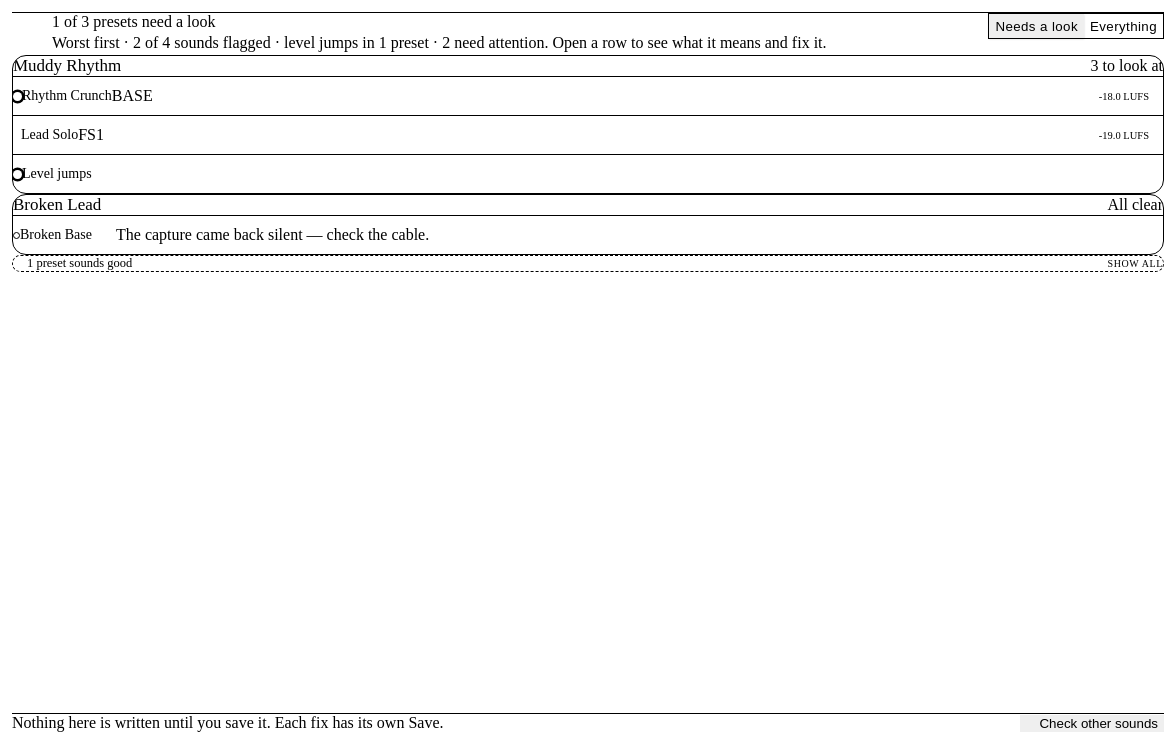
Test: DoctorResults — summary + cards › shows per-card status badges (count + all-clear)
The width and height of the screenshot is (1176, 732).
expect the text "3 to look at" is shown: met, box [1079, 57, 1163, 75]
expect the text "All clear" is shown once: met, box [1108, 196, 1163, 213]
What coordinates should you click on to do the following:
click the radio button labelled "Everything"
I would click on:
 (1124, 26)
Its box is [1084, 14, 1163, 38].
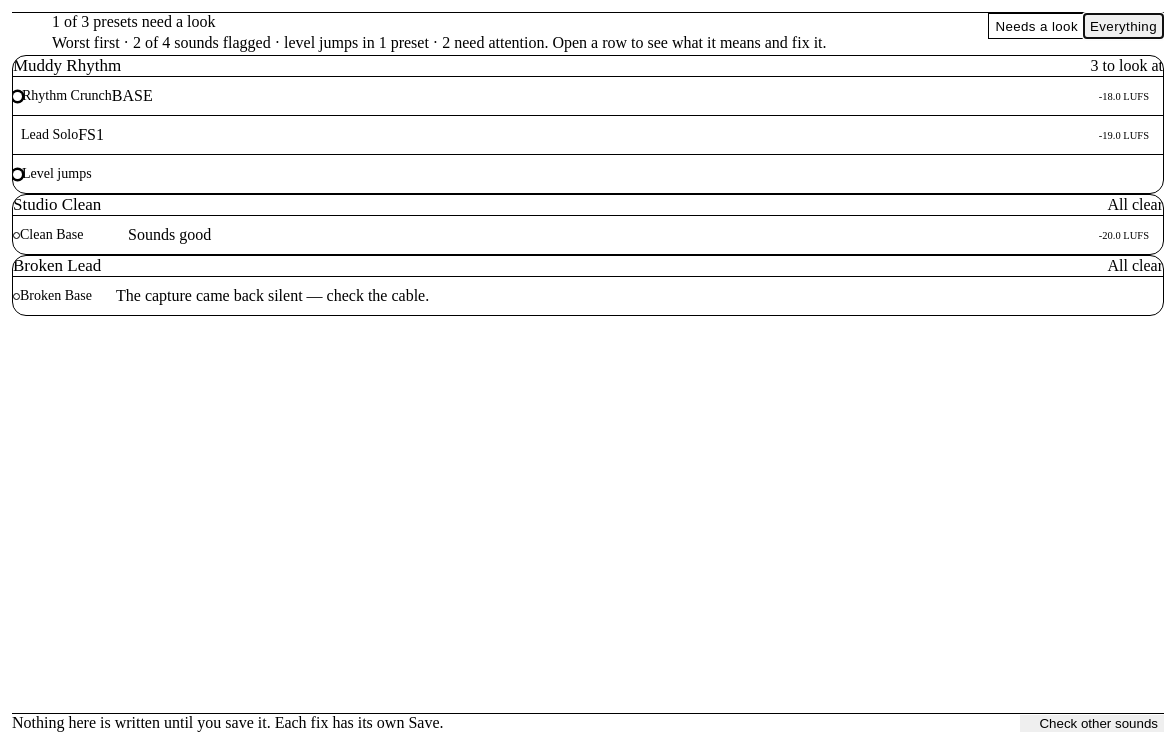
expect the text "All clear" is shown 2 times: met, box [1108, 196, 1163, 213]; [1108, 257, 1163, 274]
